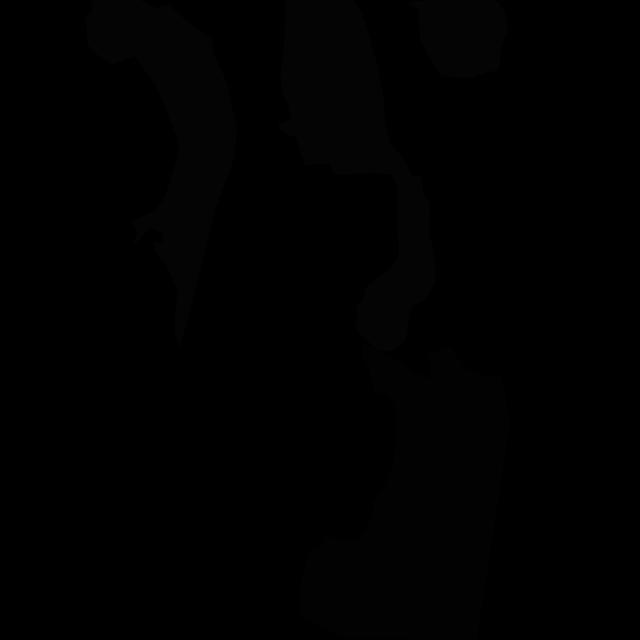cardboard: (298, 343, 510, 640)
soft_plastic: (278, 0, 436, 352), (86, 0, 238, 349), (408, 0, 508, 78)
